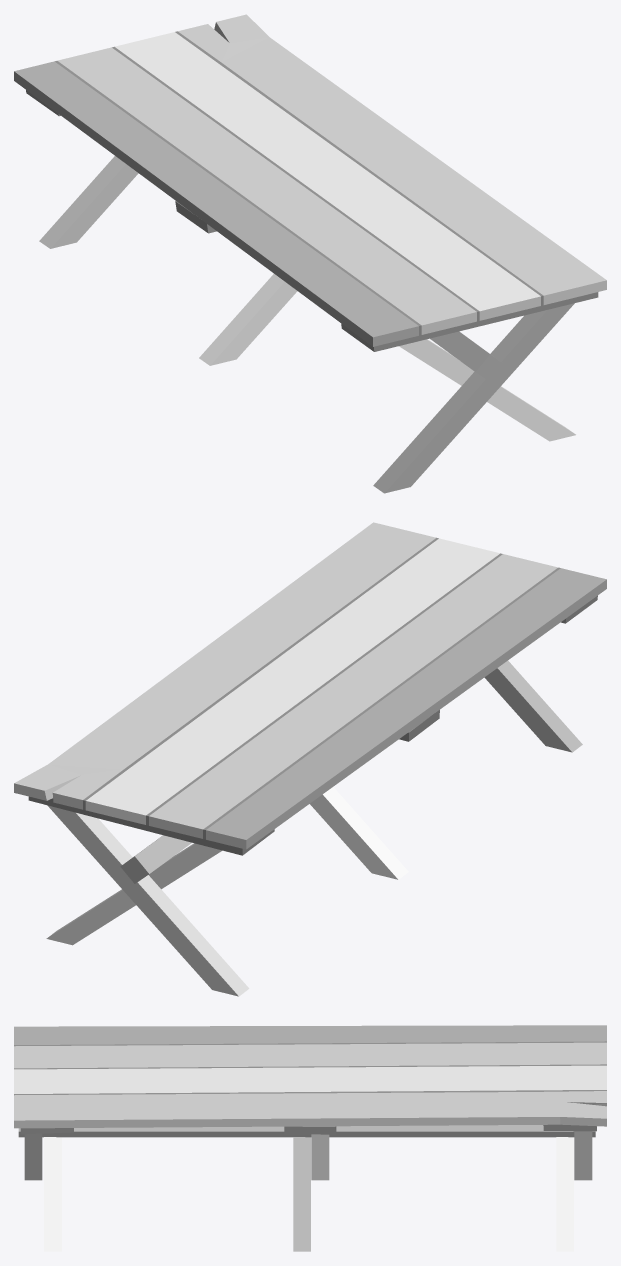
File: PT_Large_Table_01.fbx
The picture shows the model from 3 angles, top to bottom: view 1: azimuth 30°, elevation 25°; view 2: azimuth 150°, elevation 25°; view 3: azimuth 270°, elevation 25°; orthographic projection. The views are drawn at different scales.
Visible parts, largest first — view 1: PT_Large_Table_01; view 2: PT_Large_Table_01; view 3: PT_Large_Table_01.
Part boxes in pixels (x1=…): PT_Large_Table_01: x1=14, y1=14, x2=606, y2=493; PT_Large_Table_01: x1=14, y1=522, x2=606, y2=996; PT_Large_Table_01: x1=14, y1=1025, x2=606, y2=1251.
Bounding box in the file's own units: 124 × 84.93 × 331.
Materials: 1 (1 with a texture image).
